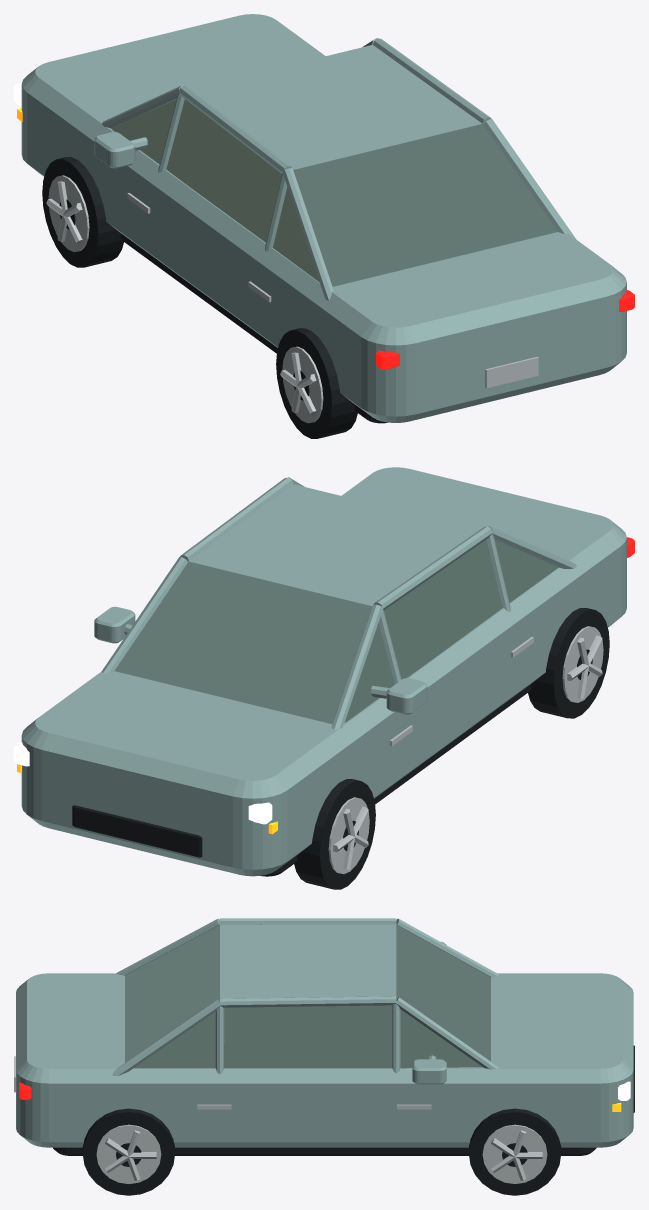
Rendered from sunlight-car.glb.
3 views of the same model, one above another, from view 1: azimuth 30°, elevation 25°; view 2: azimuth 150°, elevation 25°; view 3: azimuth 270°, elevation 25° (orthographic). The views are drawn at different scales.
Parts seen in each view (by area): view 1: ParkGo Private Car; view 2: ParkGo Private Car; view 3: ParkGo Private Car.
Part boxes in pixels (left/top/right/bottom): ParkGo Private Car: left=14, top=14, right=634, bottom=438; ParkGo Private Car: left=14, top=467, right=634, bottom=889; ParkGo Private Car: left=14, top=918, right=634, bottom=1195.
Size of the model in its own units: 2.2 by 1.46 by 4.5.
